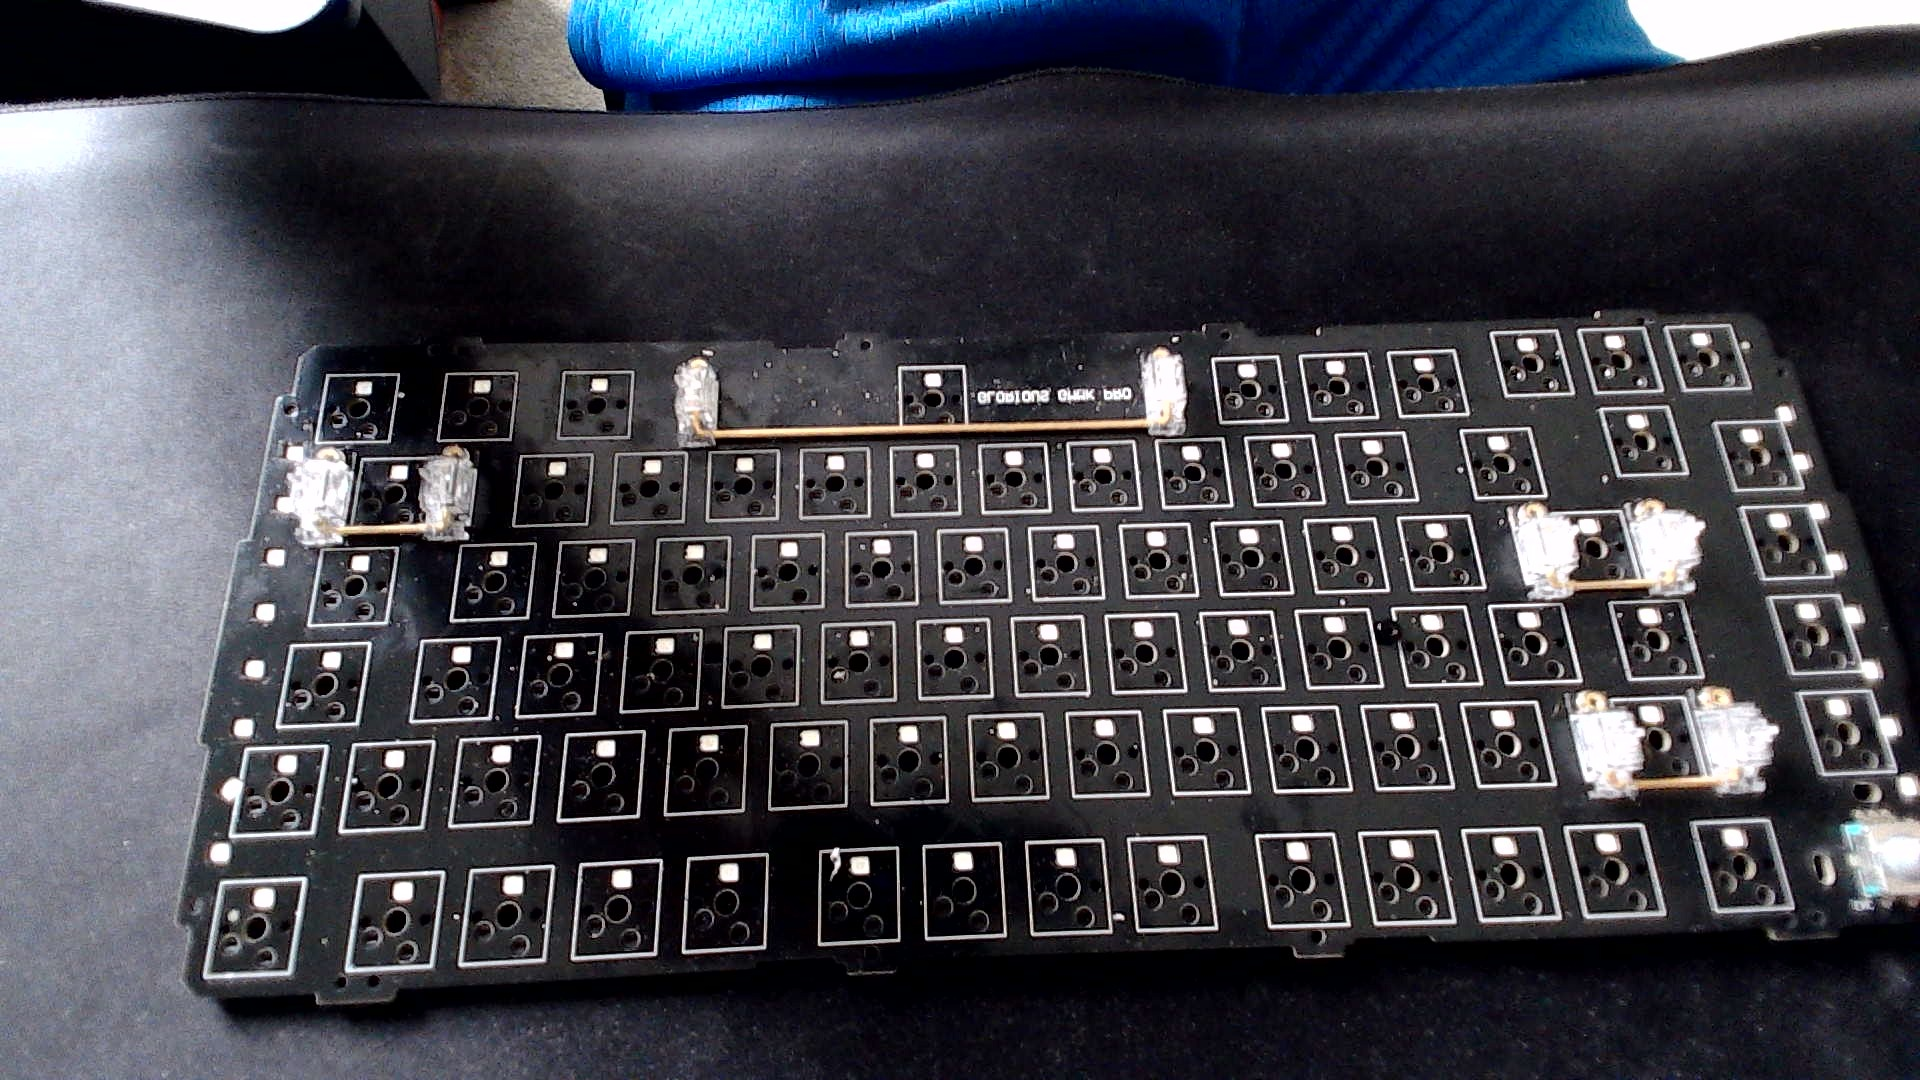pcb: (137, 295, 1919, 989)
